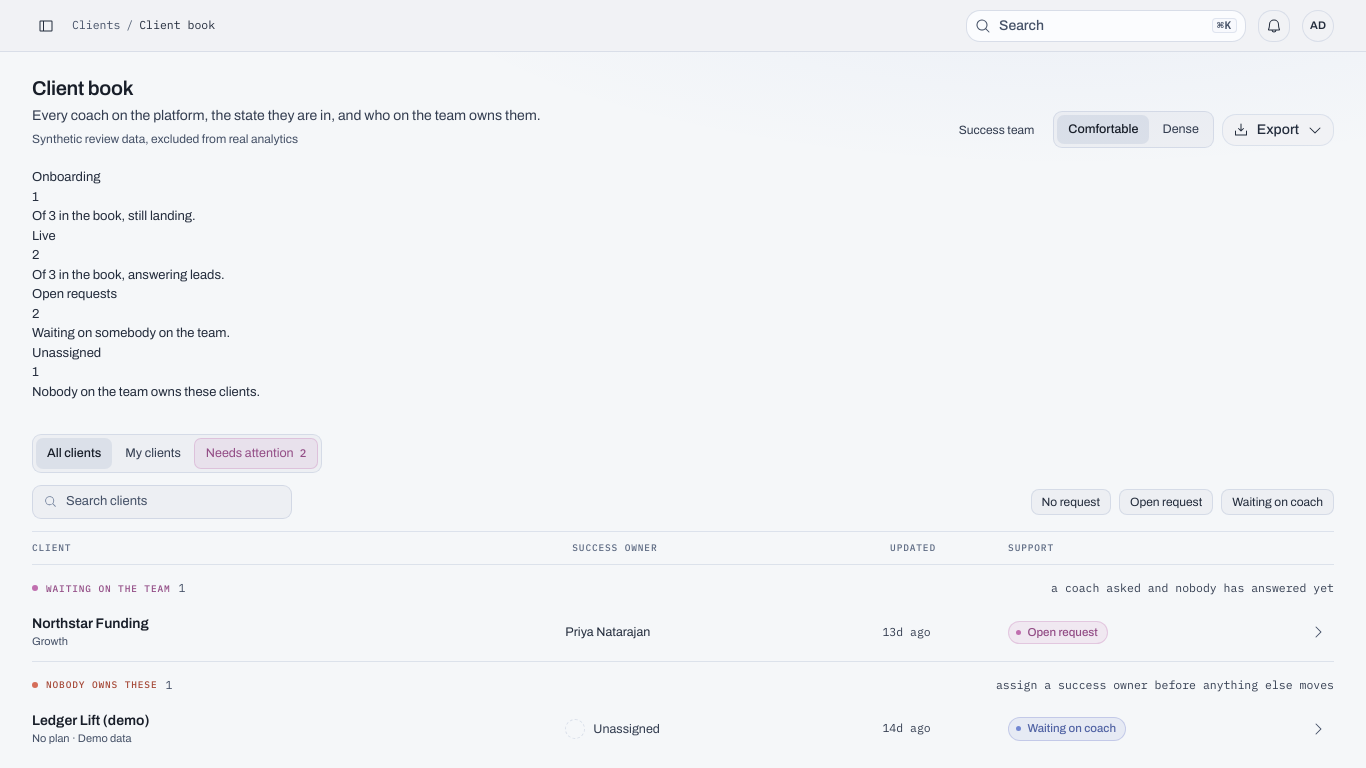
Test case: SuccessClientBook surface › scopes a failed health read to the card that failed
Click the text "Northstar Funding" at (90, 624), box [32,615,149,633]
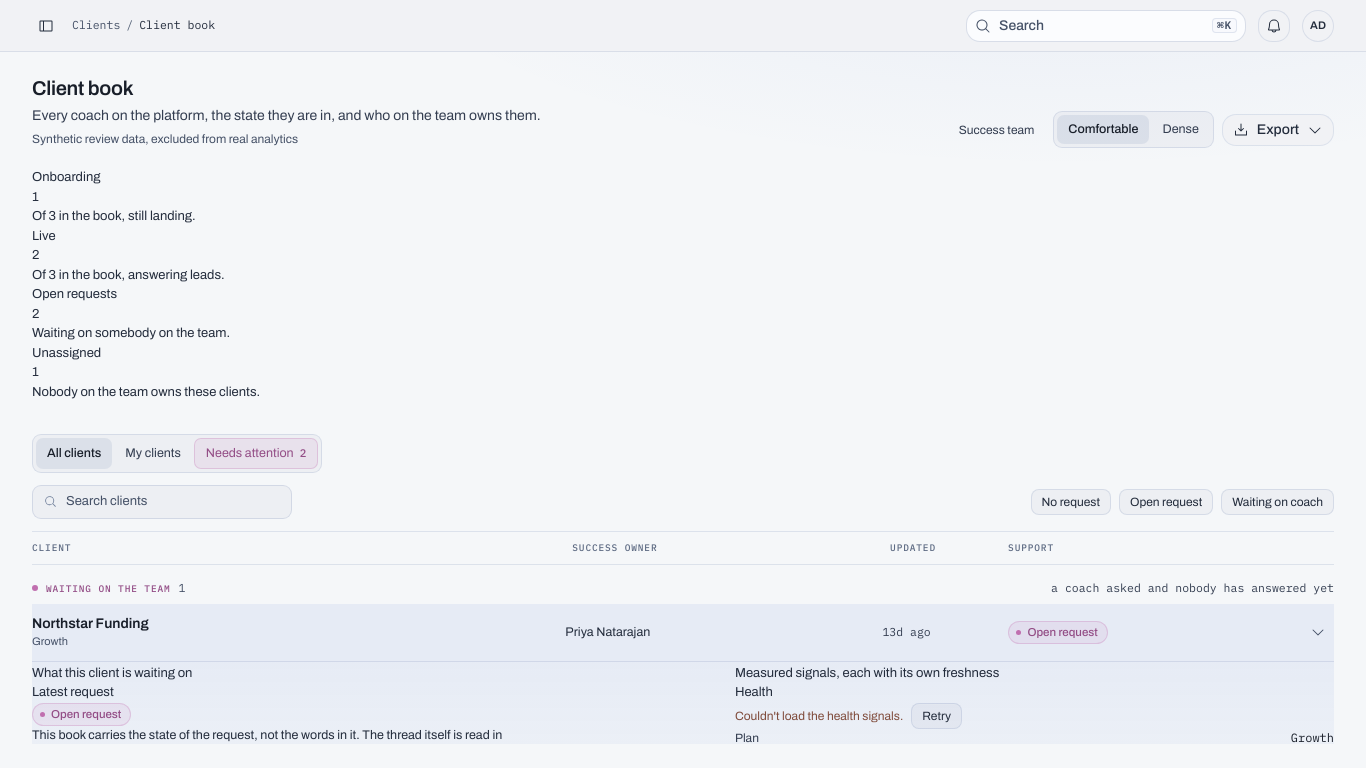
Now the text "Couldn't load the health signals." is shown, box [735,707,903,725]
Now the button "Retry" is shown, box [911,703,962,729]
